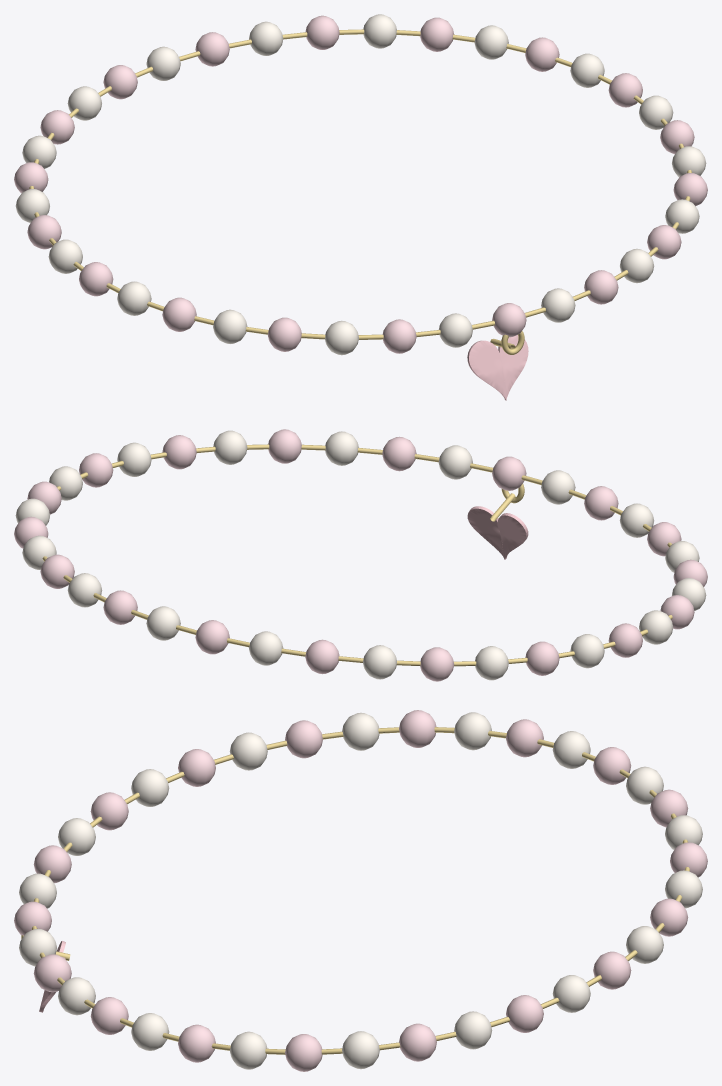
Rendered from restart_necklace_heart_penguin.glb.
3 renders of one model, top to bottom at view 1: azimuth 30°, elevation 25°; view 2: azimuth 150°, elevation 25°; view 3: azimuth 270°, elevation 25°, orthographic. The views are drawn at different scales.
Parts seen in each view (by area): view 1: Hilo continuo del collar, Corazón bordado, Perla engarzada.032, Perla engarzada.034, Perla engarzada.014, Perla engarzada.013, Perla engarzada.031, Perla engarzada.015, Perla engarzada.033, Perla engarzada.035, Perla engarzada.016, Perla engarzada.030 (+26 smaller); view 2: Hilo continuo del collar, Corazón bordado, Perla engarzada.022, Perla engarzada.021, Perla engarzada.019, Perla engarzada.004, Perla engarzada.001, Perla engarzada.003, Perla engarzada.020, Perla engarzada.023, Perla engarzada.024, Perla engarzada.002 (+26 smaller); view 3: Hilo continuo del collar, Perla engarzada.009, Perla engarzada.010, Perla engarzada.011, Perla engarzada.028, Perla engarzada.007, Perla engarzada.027, Perla engarzada.029, Perla engarzada.008, Perla engarzada.006, Perla engarzada.025, Perla engarzada.026 (+25 smaller).
Part boxes in pixels (bbox=[...]): Hilo continuo del collar: bbox=[29, 29, 691, 339]; Corazón bordado: bbox=[467, 335, 528, 400]; Perla engarzada.032: bbox=[267, 317, 301, 351]; Perla engarzada.034: bbox=[382, 319, 416, 353]; Perla engarzada.014: bbox=[420, 17, 454, 51]; Perla engarzada.013: bbox=[474, 25, 508, 59]; Perla engarzada.031: bbox=[213, 309, 247, 343]; Perla engarzada.015: bbox=[363, 14, 396, 48]; Perla engarzada.033: bbox=[325, 320, 358, 355]; Perla engarzada.035: bbox=[438, 313, 472, 347]; Perla engarzada.016: bbox=[305, 15, 339, 49]; Perla engarzada.030: bbox=[162, 297, 196, 331]; Hilo continuo del collar: bbox=[42, 444, 672, 666]; Corazón bordado: bbox=[467, 506, 528, 559]; Perla engarzada.022: bbox=[420, 647, 454, 681]; Perla engarzada.021: bbox=[363, 645, 396, 679]; Perla engarzada.019: bbox=[249, 631, 283, 665]; Perla engarzada.004: bbox=[268, 429, 301, 463]; Perla engarzada.001: bbox=[438, 445, 472, 479]; Perla engarzada.003: bbox=[325, 431, 358, 465]; Perla engarzada.020: bbox=[305, 639, 339, 674]; Perla engarzada.023: bbox=[475, 646, 508, 680]; Perla engarzada.024: bbox=[525, 641, 559, 675]; Perla engarzada.002: bbox=[382, 436, 416, 471]; Hilo continuo del collar: bbox=[32, 727, 689, 1054]; Perla engarzada.009: bbox=[342, 1031, 379, 1069]; Perla engarzada.010: bbox=[399, 1023, 436, 1061]; Perla engarzada.011: bbox=[454, 1011, 492, 1049]; Perla engarzada.028: bbox=[285, 720, 322, 758]; Perla engarzada.007: bbox=[229, 1031, 267, 1069]; Perla engarzada.027: bbox=[342, 712, 379, 750]; Perla engarzada.029: bbox=[229, 732, 267, 770]; Perla engarzada.008: bbox=[285, 1034, 322, 1071]; Perla engarzada.006: bbox=[178, 1024, 215, 1062]; Perla engarzada.025: bbox=[454, 712, 491, 750]; Perla engarzada.026: bbox=[399, 710, 436, 747].
Size of the model in its own units: 0.5809 by 0.1366 by 0.5094.
